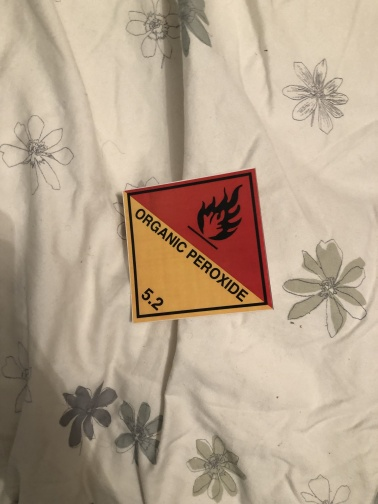OrganicPeroxide: (123, 168, 274, 324)
